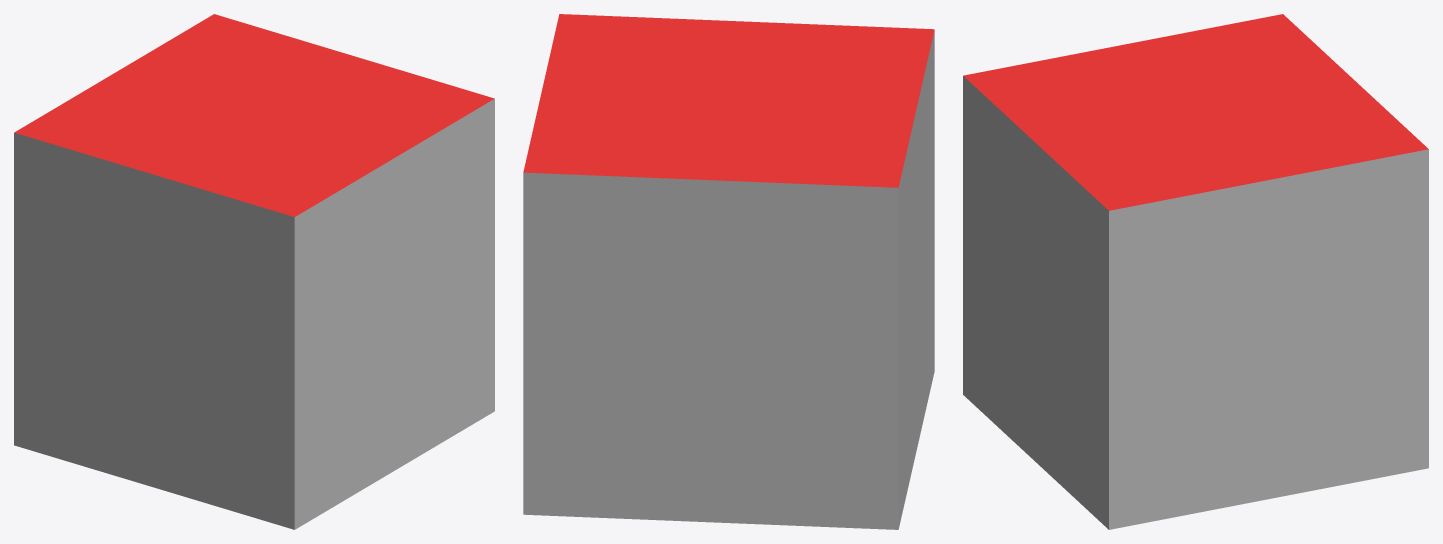
The model's file is ID_7884b049-edc2-4ba9-bc76-2687051fb732.dae.
The picture shows the model from 3 angles, left to right: view 1: azimuth 30°, elevation 25°; view 2: azimuth 150°, elevation 25°; view 3: azimuth 270°, elevation 25°; orthographic projection. The views are drawn at different scales.
Size of the model in its own units: 17.22 by 17.22 by 13.02.
